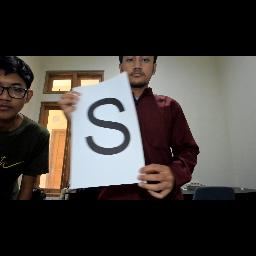s: (84, 97, 130, 159)
